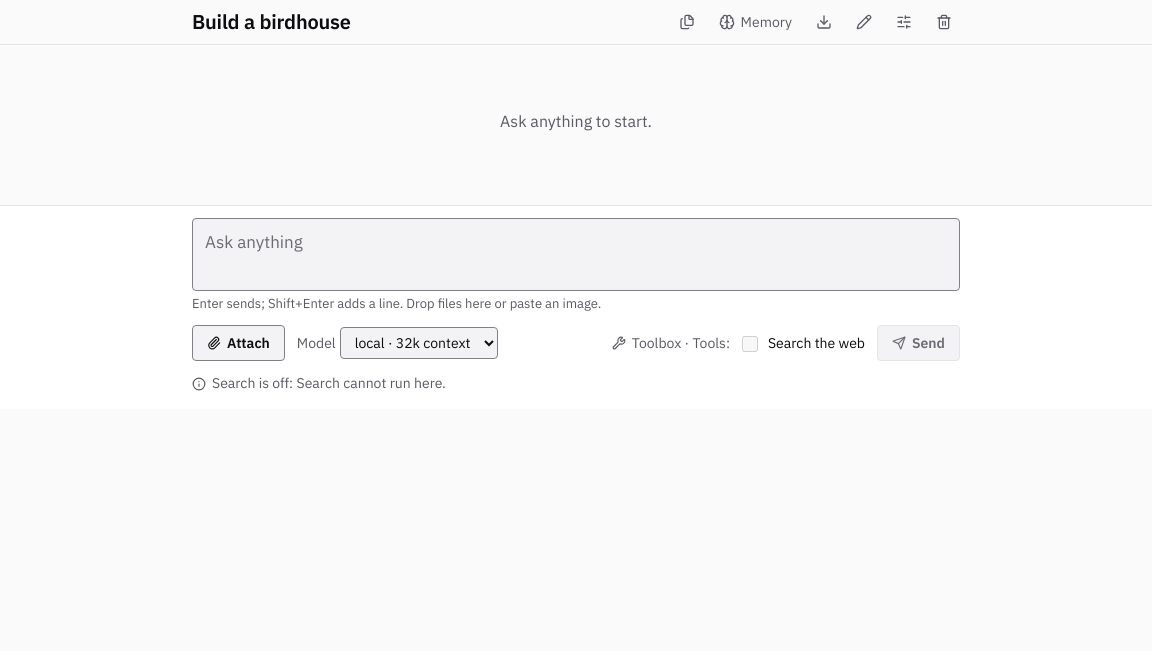
Memory in a chat › opens its drawer on a press, reads the notes again, and closes it on a second press
Click the button with test id "memory-chip" at {"x": 755, "y": 22}, box x1=711 y1=6 x2=800 y2=38
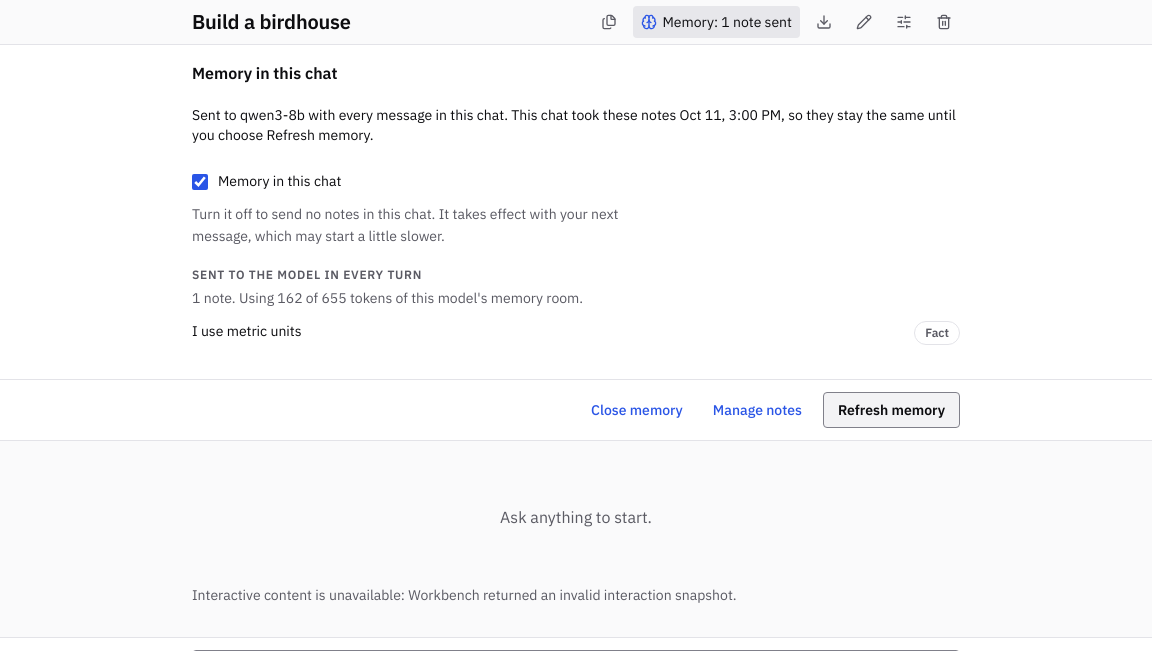
Now the button with test id "memory-chip" is expanded
Now the element with test id "memory-drawer" is shown
Click the button with test id "memory-chip" at {"x": 716, "y": 22}, box x1=632 y1=6 x2=800 y2=38
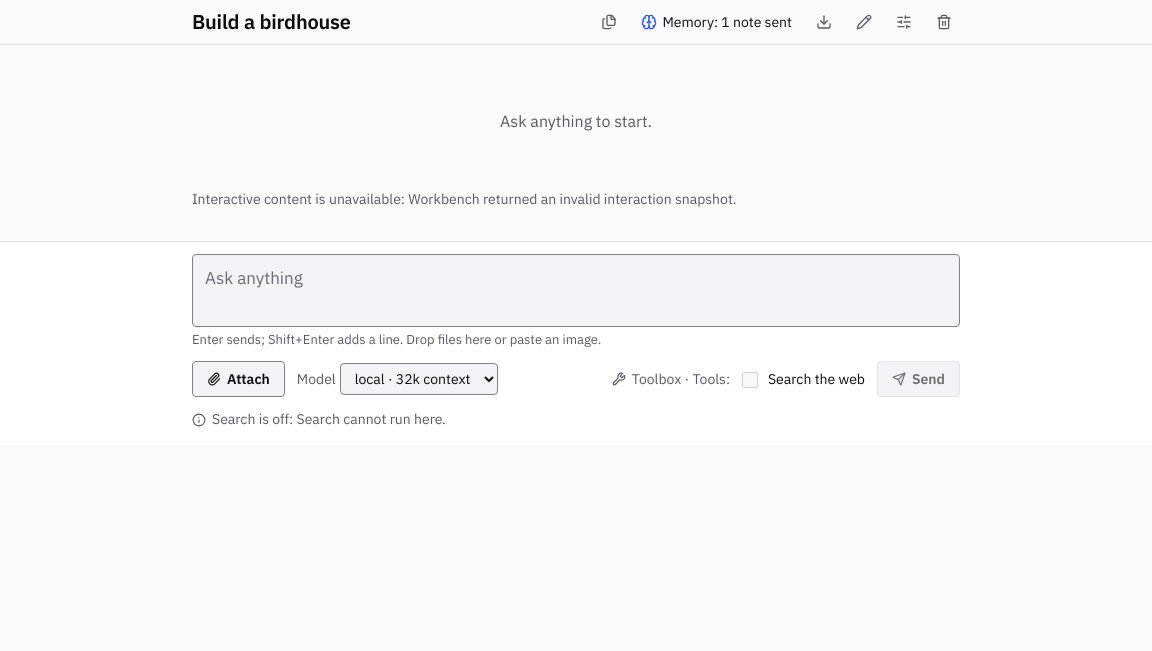
Now the element with test id "memory-drawer" is gone
